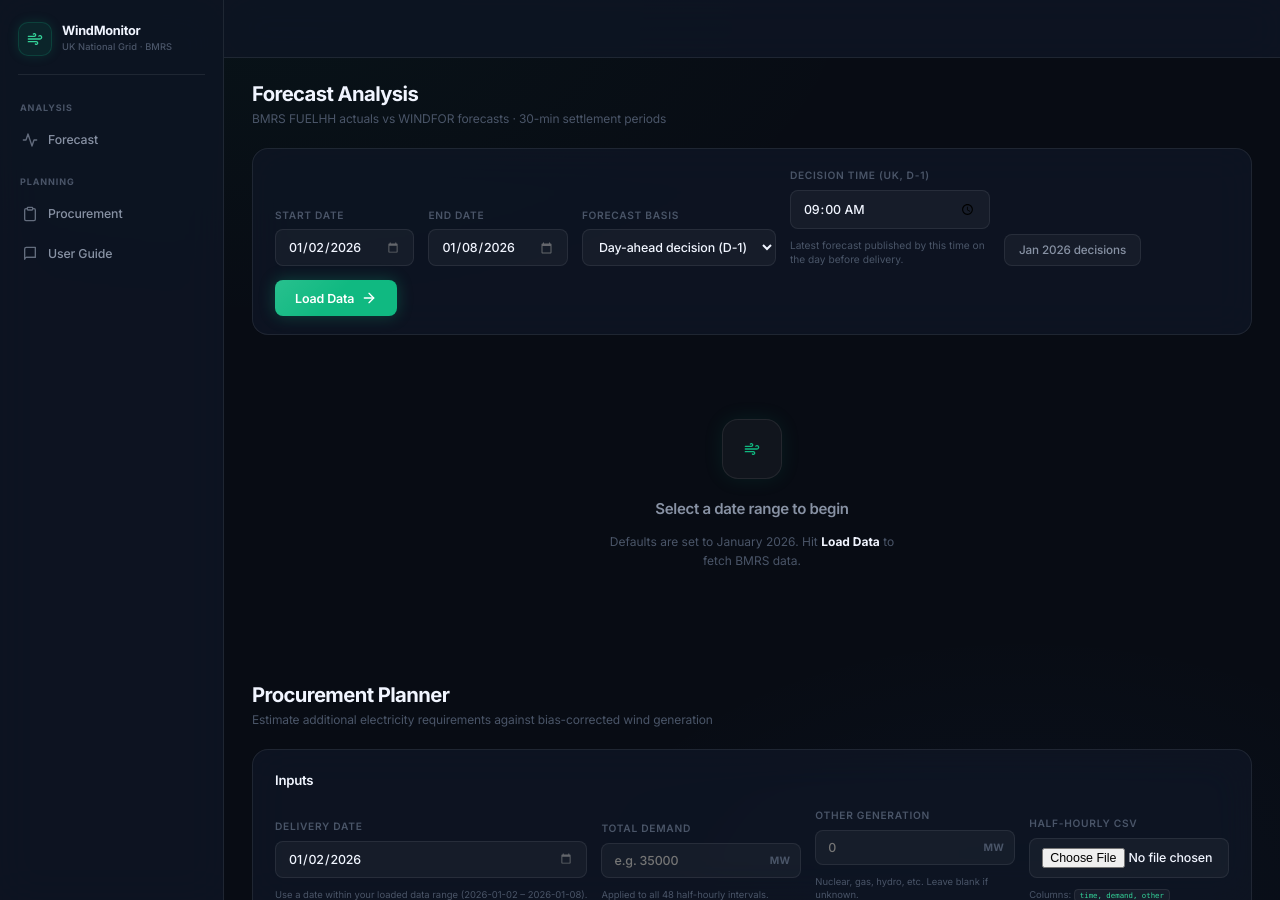
Test: January preset sets the delivery range for January 2026 decisions
Click the button "Jan 2026 decisions" at (1072, 250), box [1004, 234, 1141, 266]
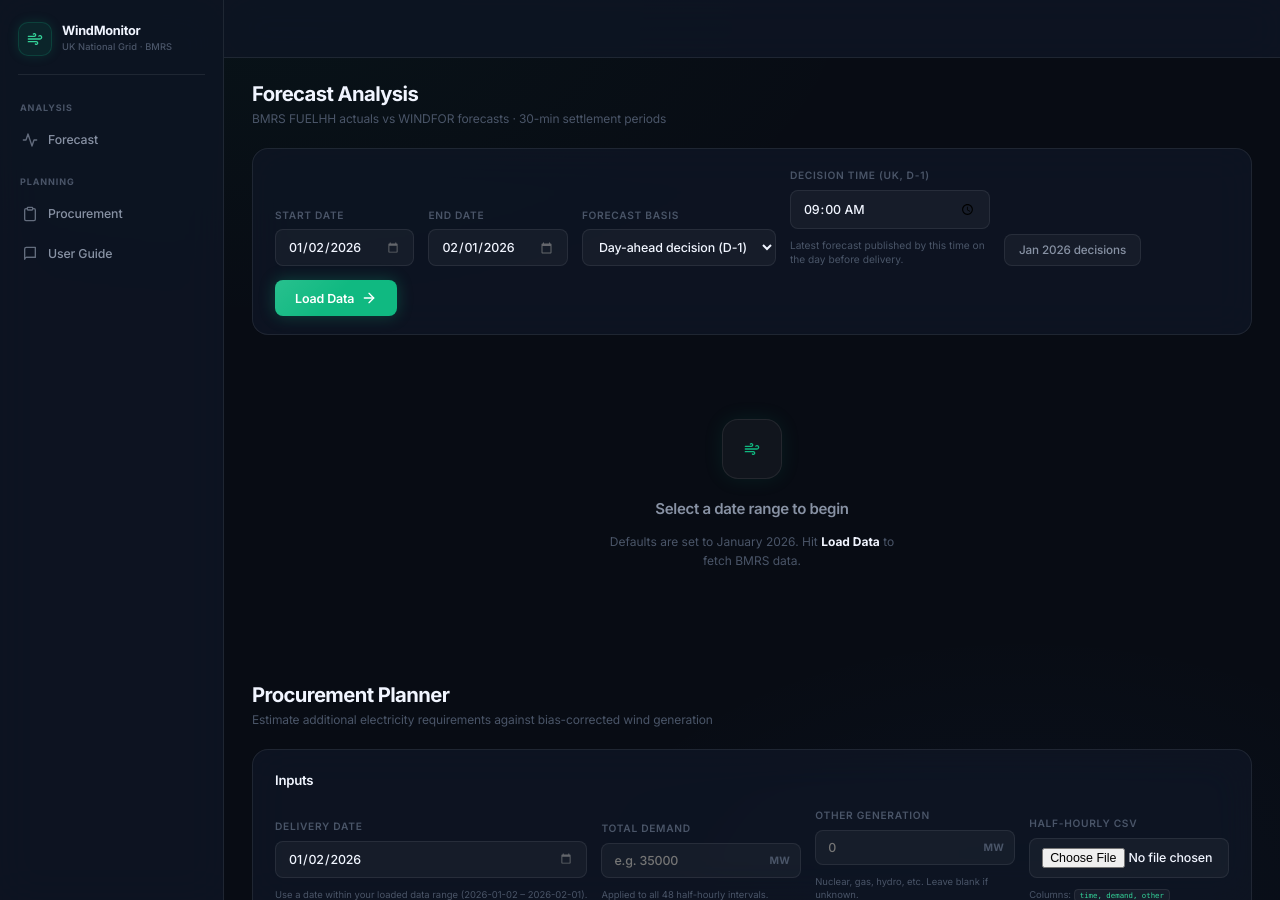
Expected: the date field labelled "Start Date" holds "2026-01-02", [275, 229, 414, 266]
Expected: the date field labelled "End Date" holds "2026-02-01", [428, 229, 568, 266]
